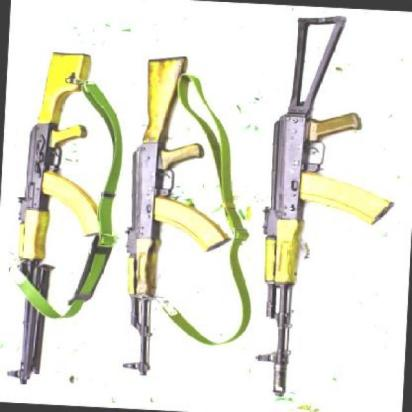Gun: (240, 13, 402, 407), (107, 46, 248, 380), (0, 48, 127, 392)
